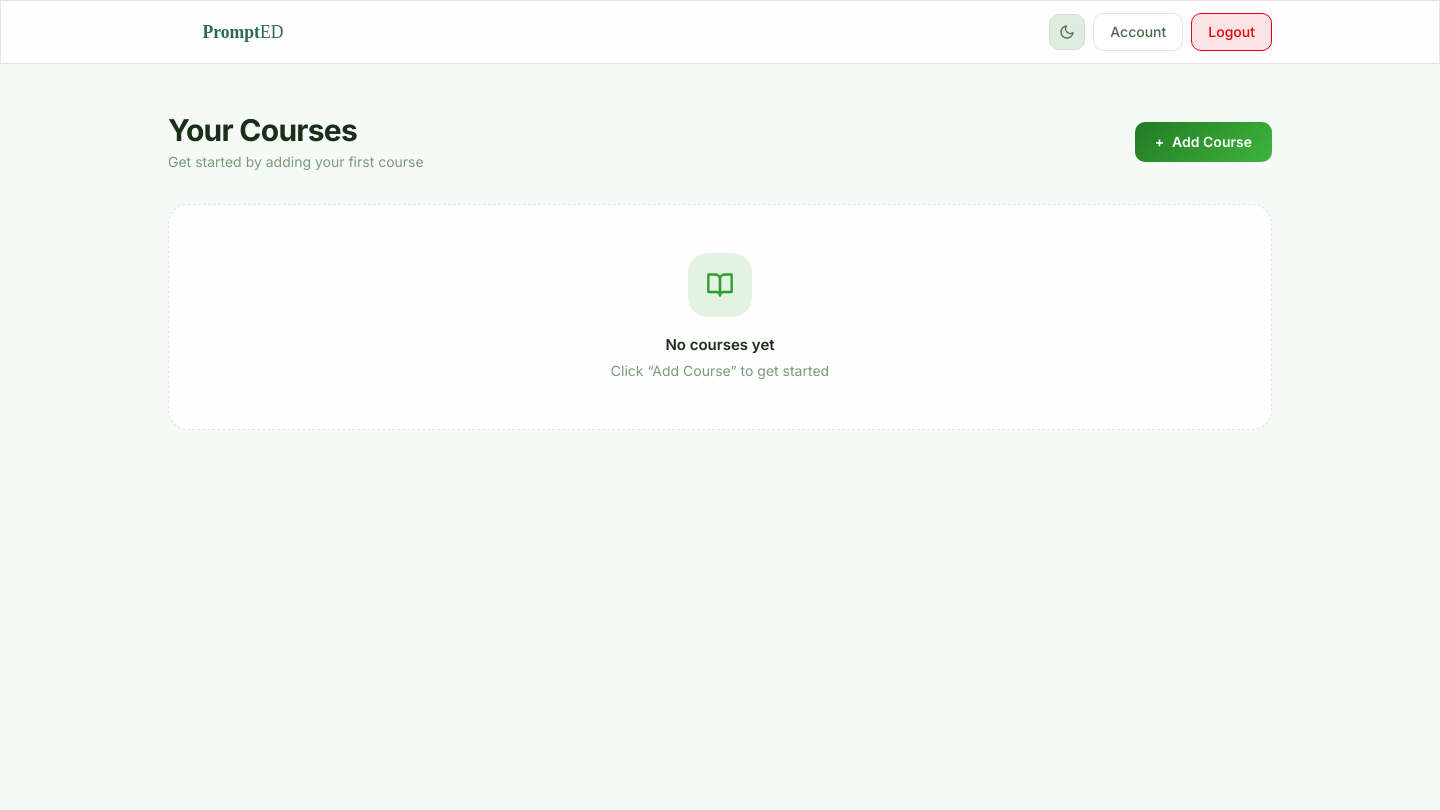
Test: Dashboard Component › should open modal when "Add a course" is clicked
Expected: the heading "Your Courses" is shown, [168,112,357,148]
Click the text "Add Course".
click(1212, 142)  # box [1172,132,1252,152]
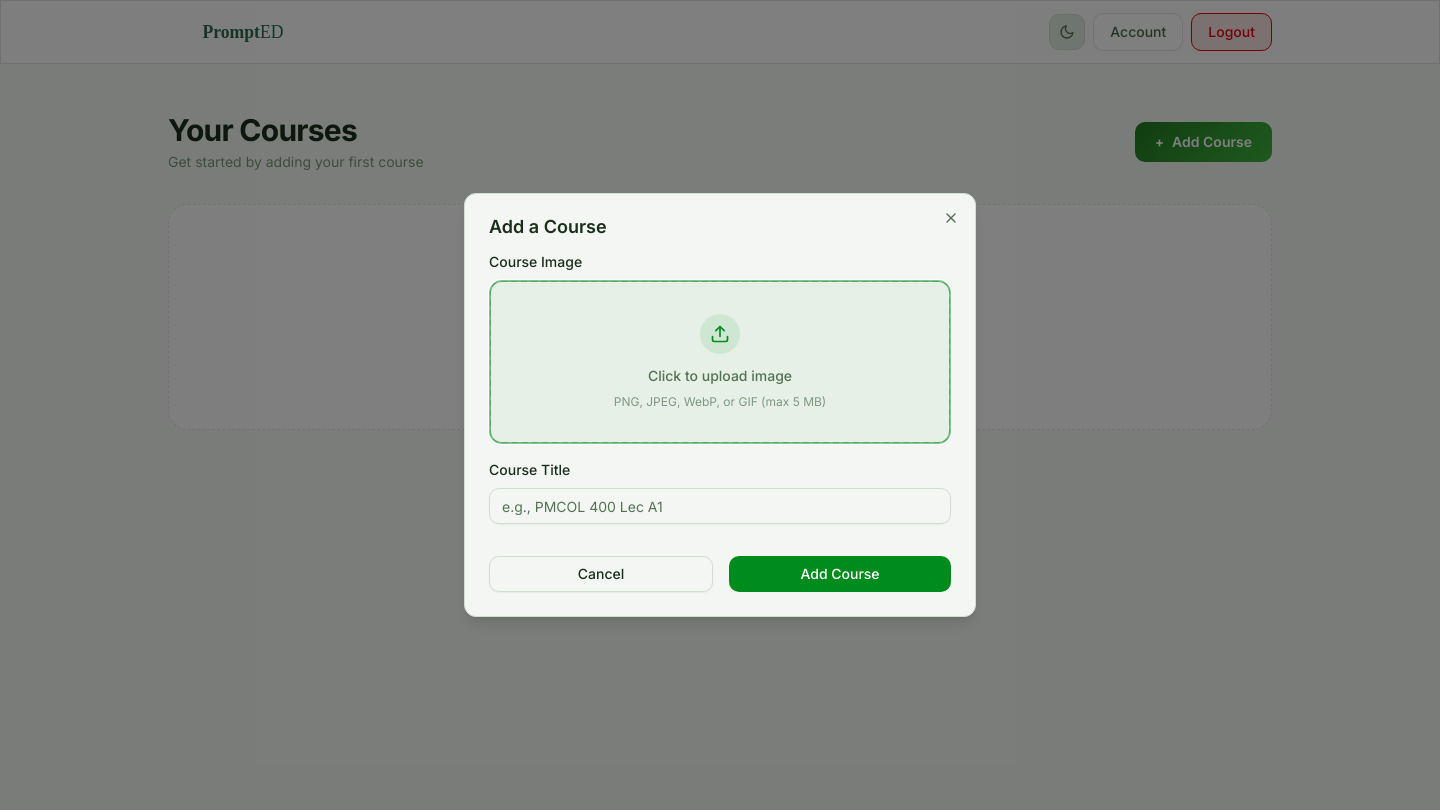
Expected: the heading "Add a Course" is shown, [489,216,607,237]
